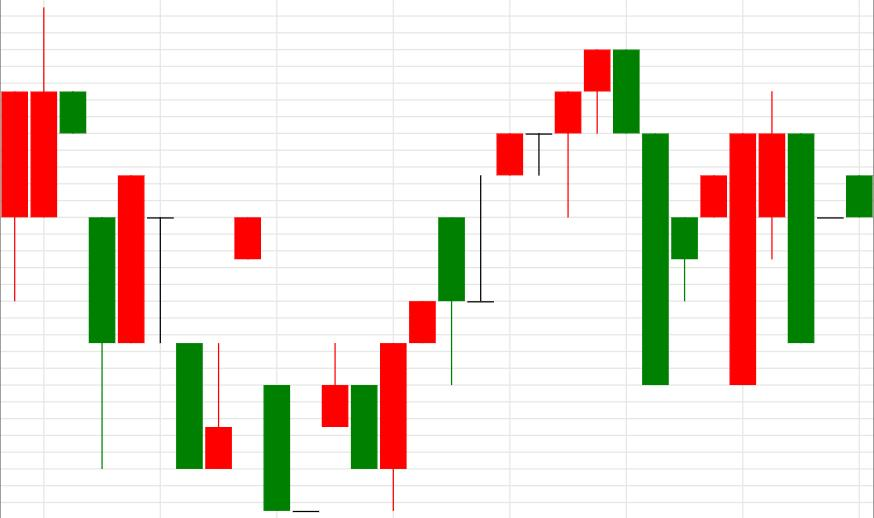hanging_man_fall: (380, 92, 581, 510)
